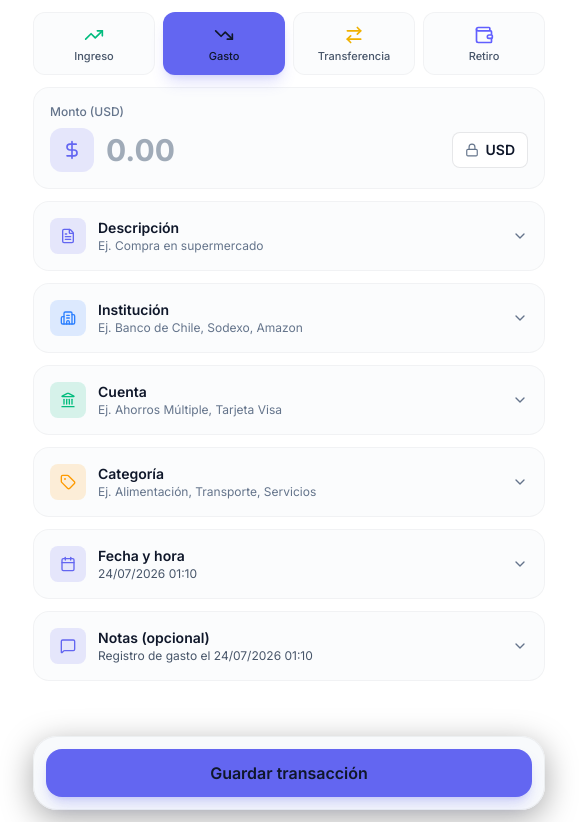
Test: TransactionForm — Institución / Categoría suggestions › guides the user to create the first institution when none exist yet
Click the button "Institución": [289, 318] box [34,284,544,352]
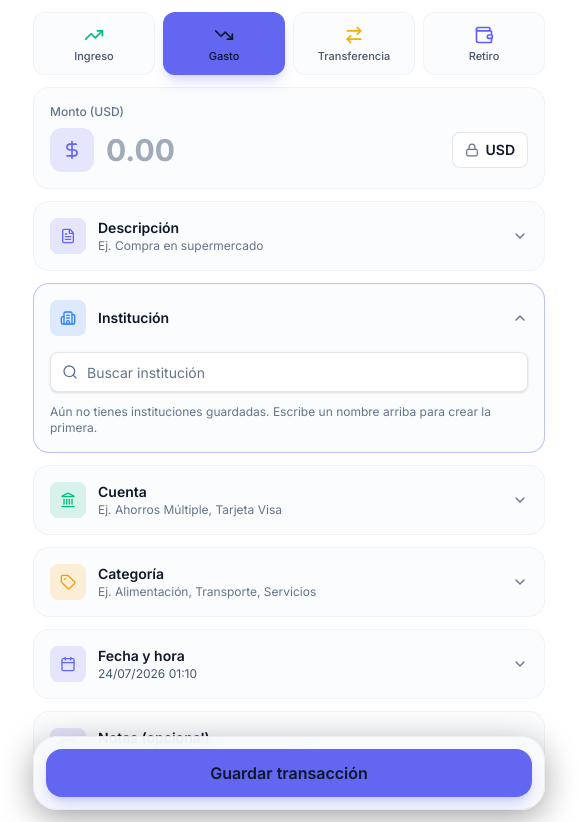
Now the text "Aún no tienes instituciones guardadas. Escribe un nombre arriba para crear la primera." is shown, box [50,404,491,435]
